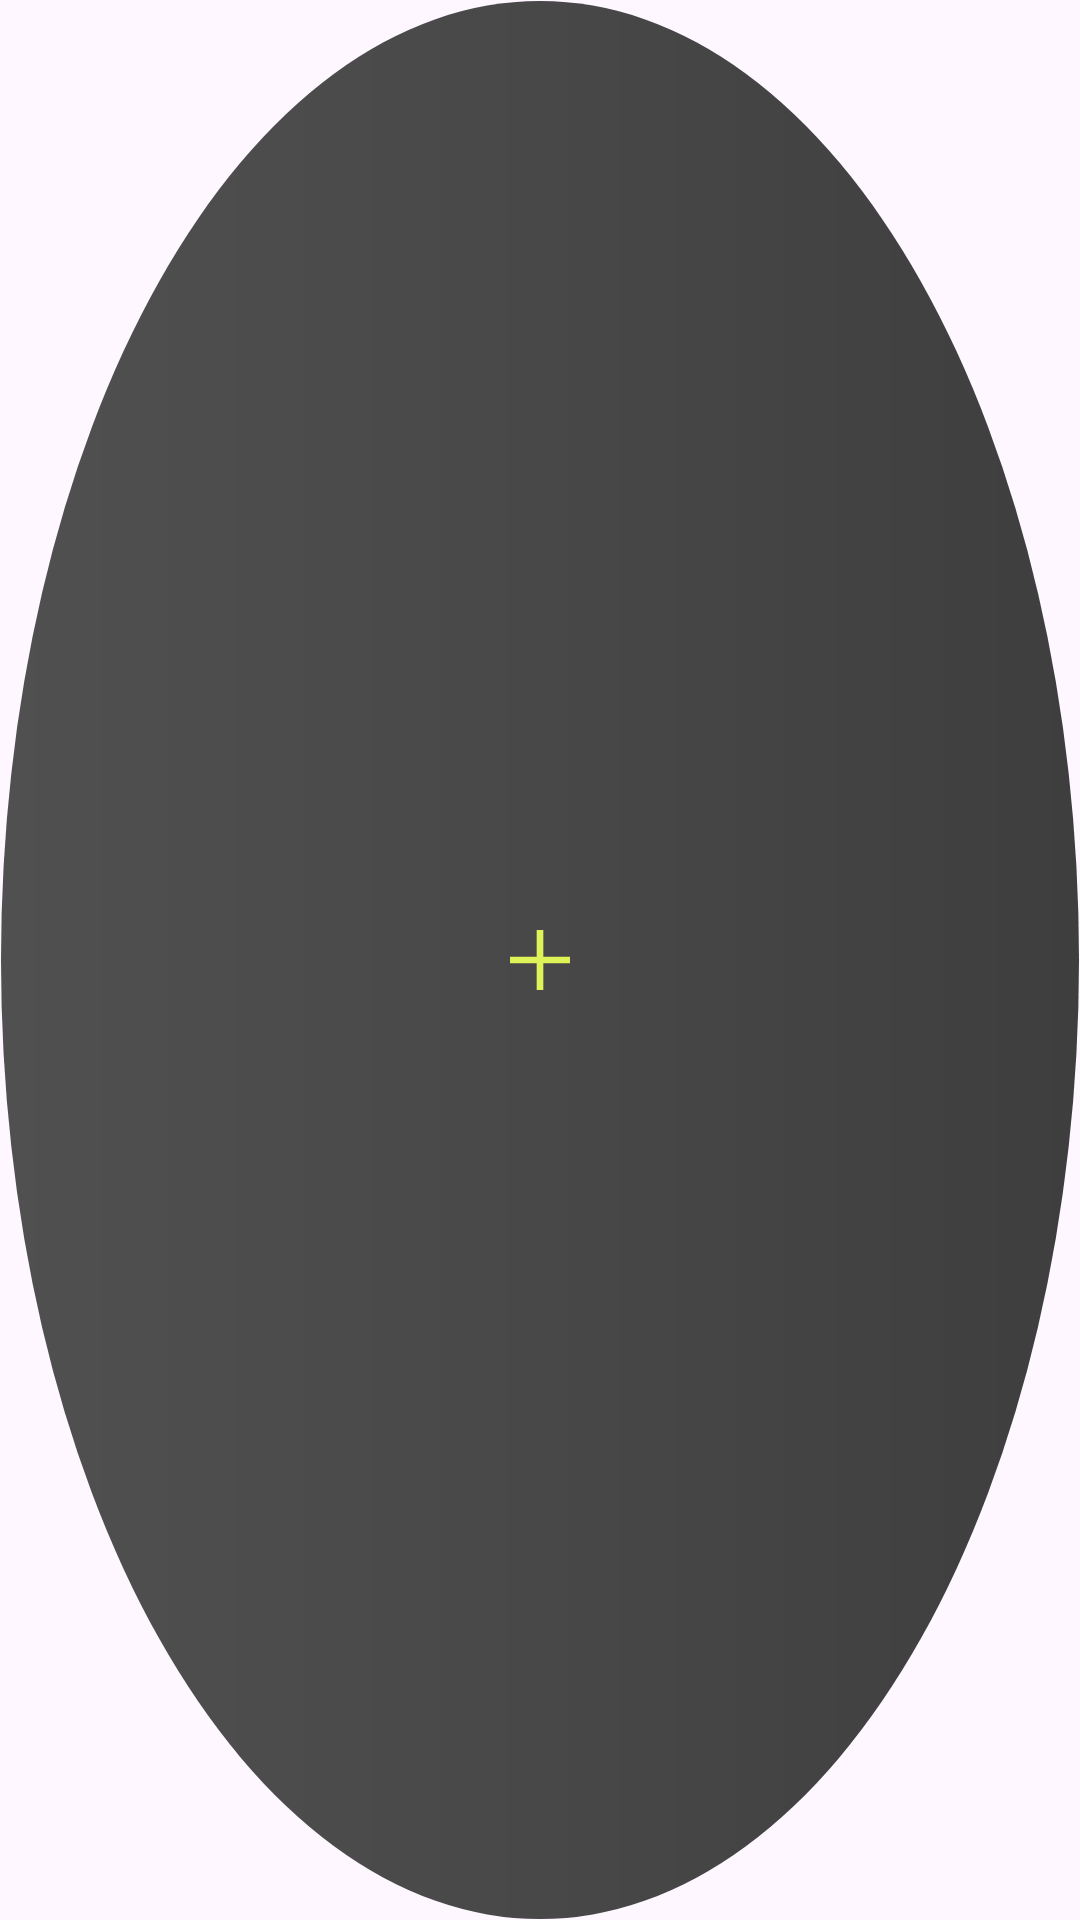

Screen size 1080 x 1920. Icon name, then its center in pixels as point (x, y):
plus sign: point (540, 960)
